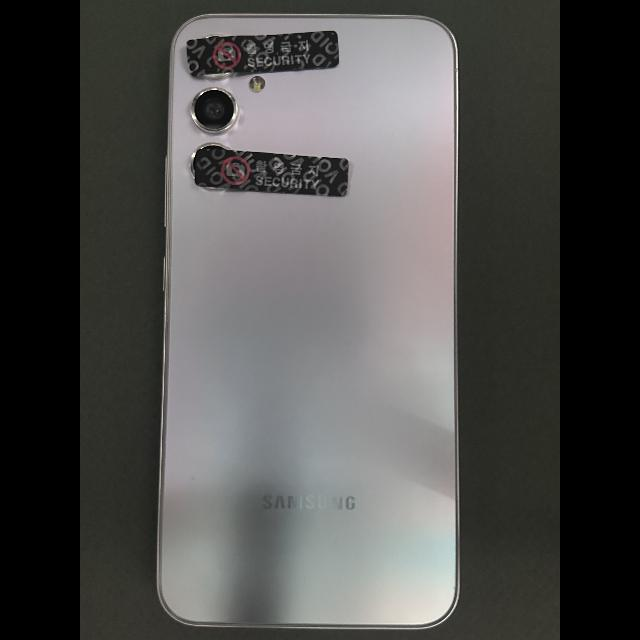lens: (191, 87, 237, 132), (190, 143, 229, 178), (205, 73, 231, 78)
phone: (156, 12, 461, 630)
sticker: (195, 148, 349, 197), (186, 30, 340, 76)
